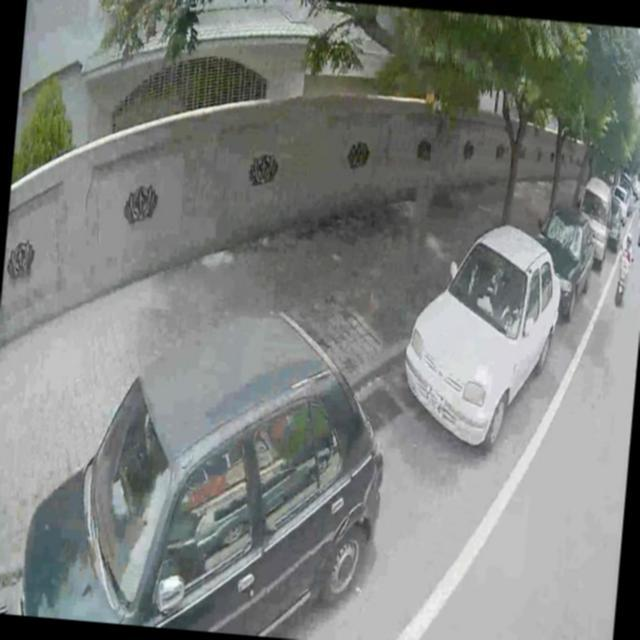person: (622, 234, 632, 259)
